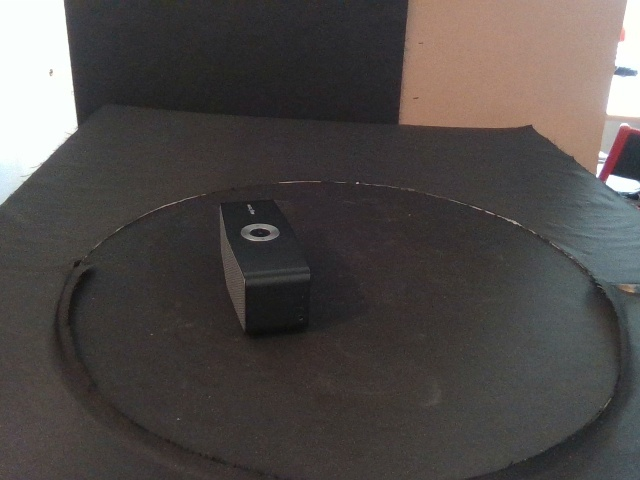speaker: (219, 199, 312, 335)
